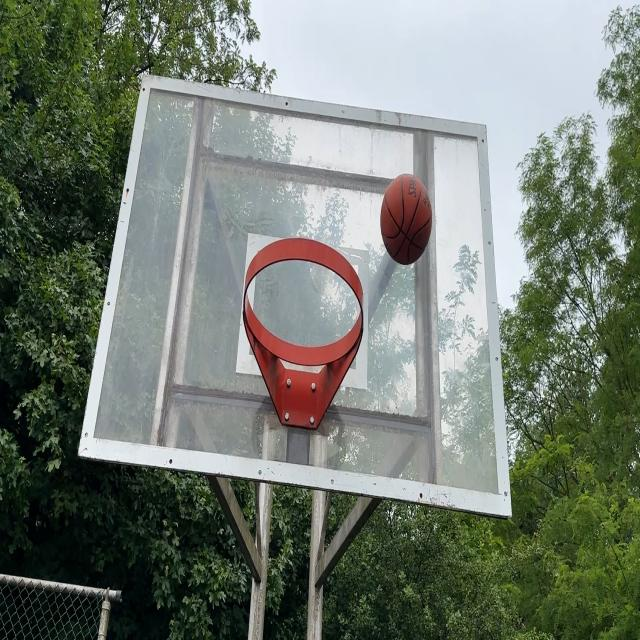rebound_hit: (381, 174, 432, 268)
